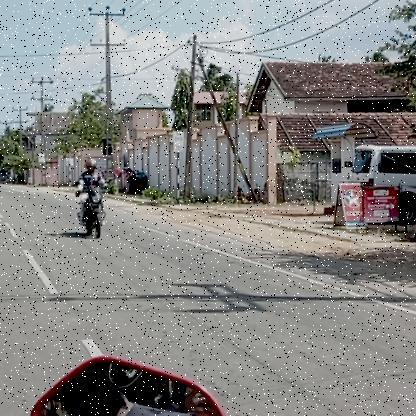motorcycle: (74, 187, 112, 240)
